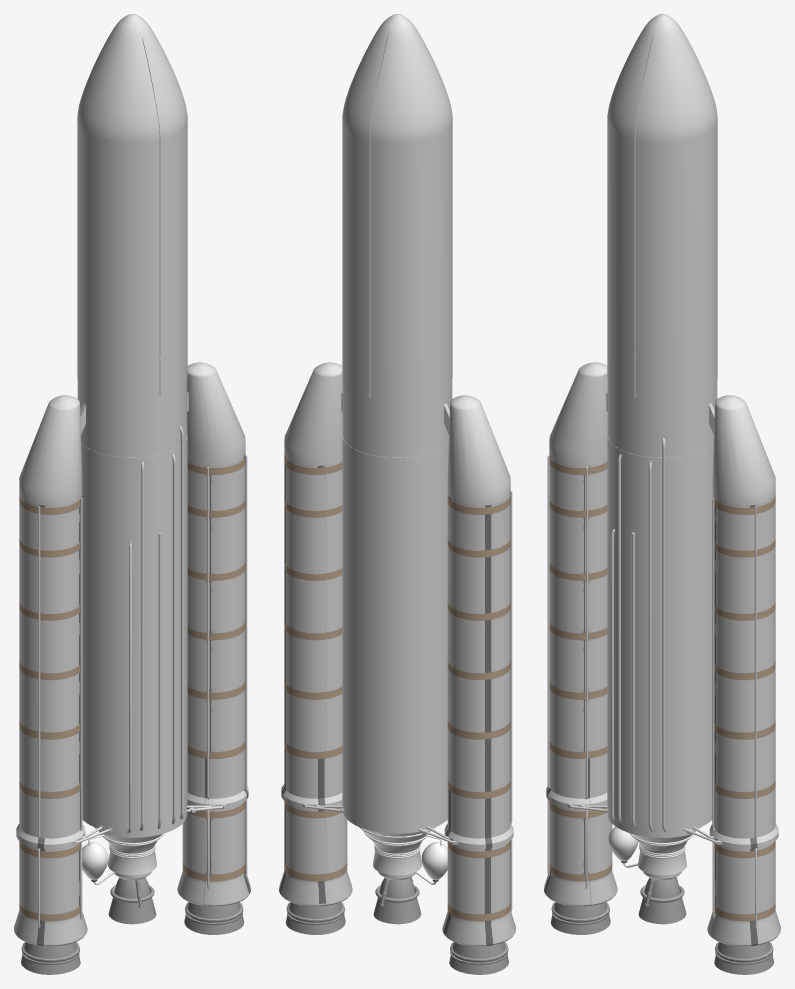
Rendered from Rocket.fbx.
3 views of the same model, side by side, from view 1: azimuth 30°, elevation 25°; view 2: azimuth 150°, elevation 25°; view 3: azimuth 330°, elevation 25° (orthographic).
Visible parts, largest first — view 1: Cylinder, Nozzle_1_Nozzle_metal_0.001, Nozzle_1_Nozzle_metal_0, Nozzle_1_Nozzle_metal_0.002; view 2: Cylinder, Nozzle_1_Nozzle_metal_0.001, Nozzle_1_Nozzle_metal_0, Nozzle_1_Nozzle_metal_0.002; view 3: Cylinder, Nozzle_1_Nozzle_metal_0, Nozzle_1_Nozzle_metal_0.001, Nozzle_1_Nozzle_metal_0.002.
Boxes of the visible parts, bbox=[...] form: Cylinder: bbox=[77, 14, 187, 837]; Nozzle_1_Nozzle_metal_0.001: bbox=[14, 395, 87, 974]; Nozzle_1_Nozzle_metal_0: bbox=[177, 362, 250, 934]; Nozzle_1_Nozzle_metal_0.002: bbox=[82, 827, 164, 924]; Cylinder: bbox=[342, 14, 452, 833]; Nozzle_1_Nozzle_metal_0.001: bbox=[442, 395, 515, 974]; Nozzle_1_Nozzle_metal_0: bbox=[279, 362, 352, 934]; Nozzle_1_Nozzle_metal_0.002: bbox=[358, 826, 447, 924]; Cylinder: bbox=[607, 14, 717, 837]; Nozzle_1_Nozzle_metal_0: bbox=[707, 395, 780, 974]; Nozzle_1_Nozzle_metal_0.001: bbox=[544, 362, 617, 934]; Nozzle_1_Nozzle_metal_0.002: bbox=[608, 826, 700, 924].
Bounding box in the file's own units: 128 × 498 × 55.19.
8 materials, 1 textured.
